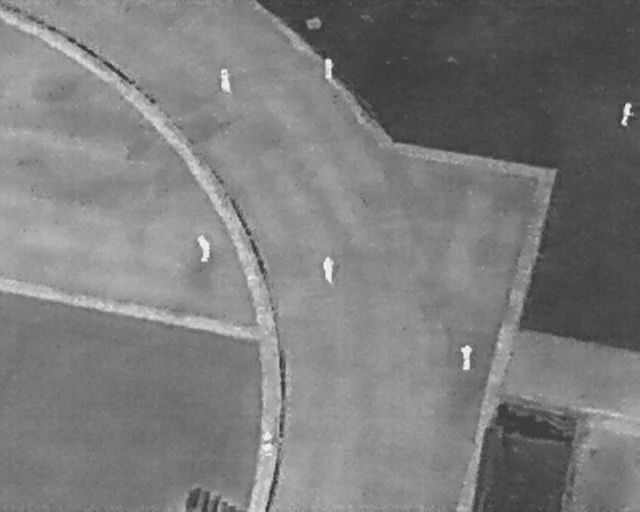Person: (195, 234, 211, 264), (322, 256, 336, 285), (218, 67, 233, 94), (460, 342, 473, 373), (323, 56, 334, 83), (622, 101, 632, 126)
